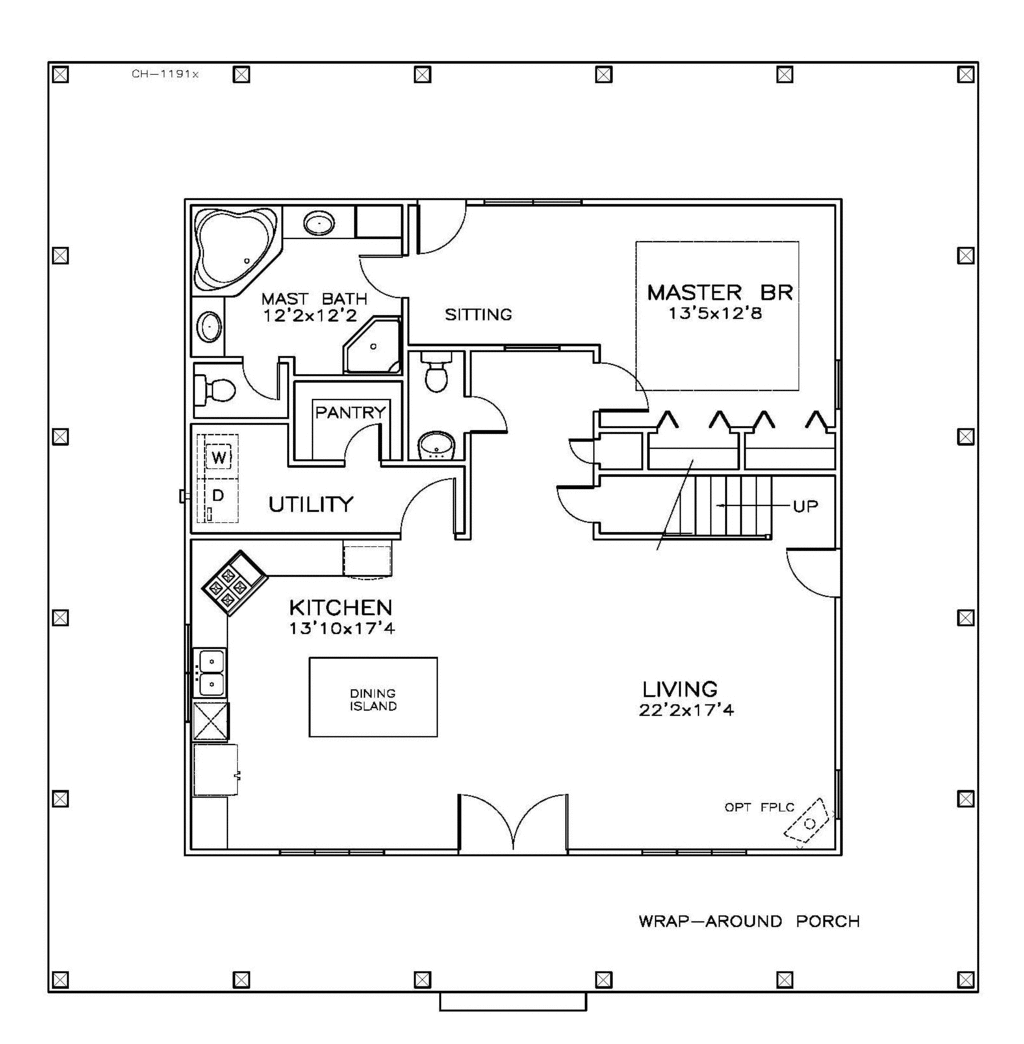door: (450, 782, 572, 849), (397, 479, 463, 542), (784, 537, 840, 597), (592, 363, 655, 413), (348, 248, 409, 299), (413, 201, 468, 257), (237, 357, 284, 400), (555, 486, 608, 523), (468, 395, 514, 437), (340, 424, 387, 463), (559, 437, 601, 473)
kitchen_bar: (190, 534, 397, 634)
large_sink: (409, 347, 464, 397), (197, 366, 235, 413)
small_sink: (406, 412, 468, 466), (279, 206, 361, 238), (195, 297, 229, 355)
stairs: (609, 481, 806, 536)
tub: (192, 199, 282, 297)
twin_sink: (192, 650, 226, 700)
window: (277, 844, 388, 857), (488, 198, 588, 211)
